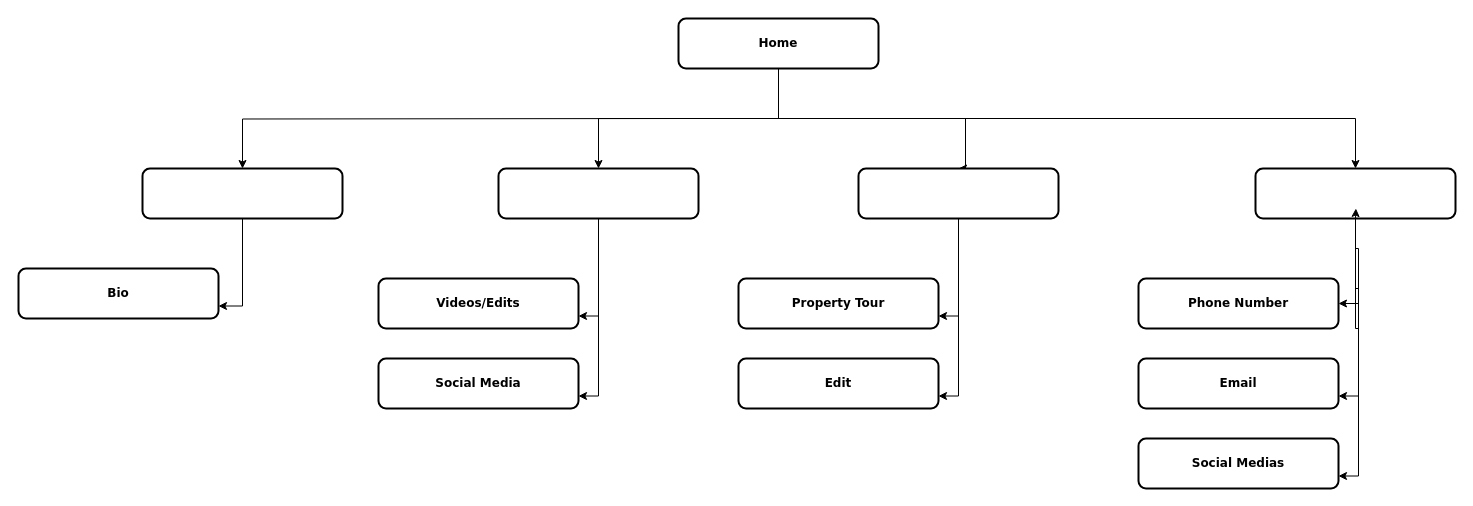
The diagram is 1473 pixels wide and 506 high, and some of its shapes have lost their labels. Each missing label, with the box of its shape:
About: (141, 167, 343, 219)
Contact: (1254, 167, 1456, 219)
Portfolio: (497, 167, 699, 219)
Services: (857, 167, 1059, 219)
